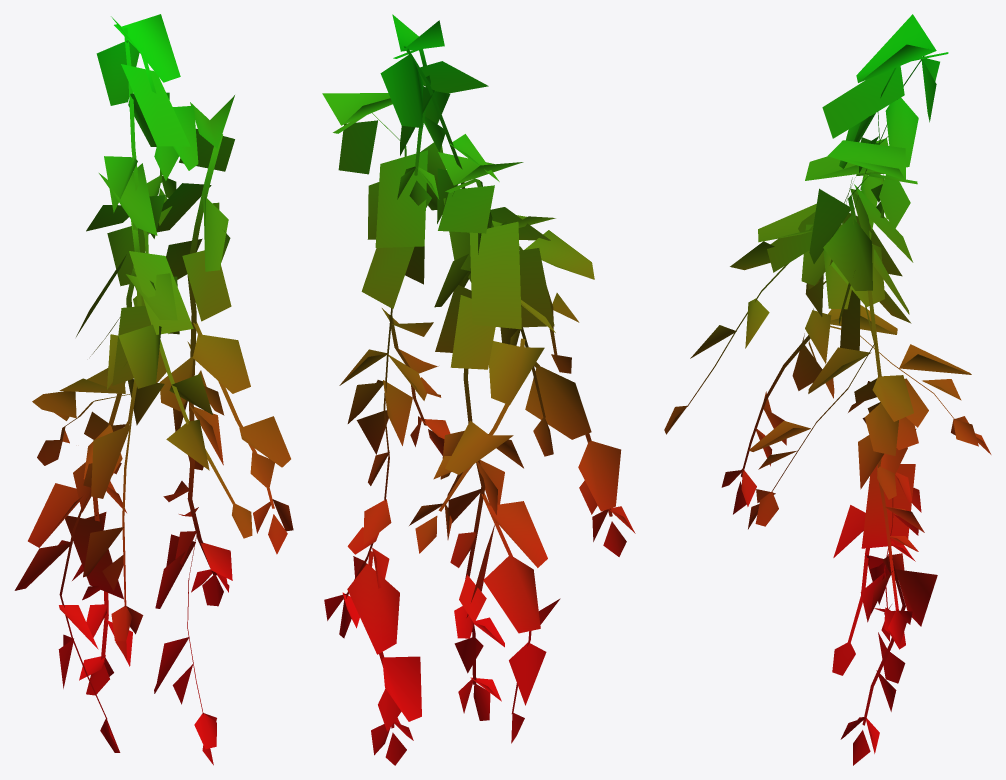
Rendered from Var12_LOD4.fbx.
3 views of the same model, side by side, from view 1: azimuth 30°, elevation 25°; view 2: azimuth 150°, elevation 25°; view 3: azimuth 270°, elevation 25° (orthographic). The views are drawn at different scales.
Visible parts, largest first — view 1: _o5fy_Var12_LOD4; view 2: _o5fy_Var12_LOD4; view 3: _o5fy_Var12_LOD4.
Part boxes in pixels (left/top/right/bottom): _o5fy_Var12_LOD4: left=14, top=14, right=293, bottom=765; _o5fy_Var12_LOD4: left=322, top=14, right=635, bottom=765; _o5fy_Var12_LOD4: left=664, top=14, right=991, bottom=765.
Bounding box in the file's own units: 23.33 × 77.29 × 31.97.
